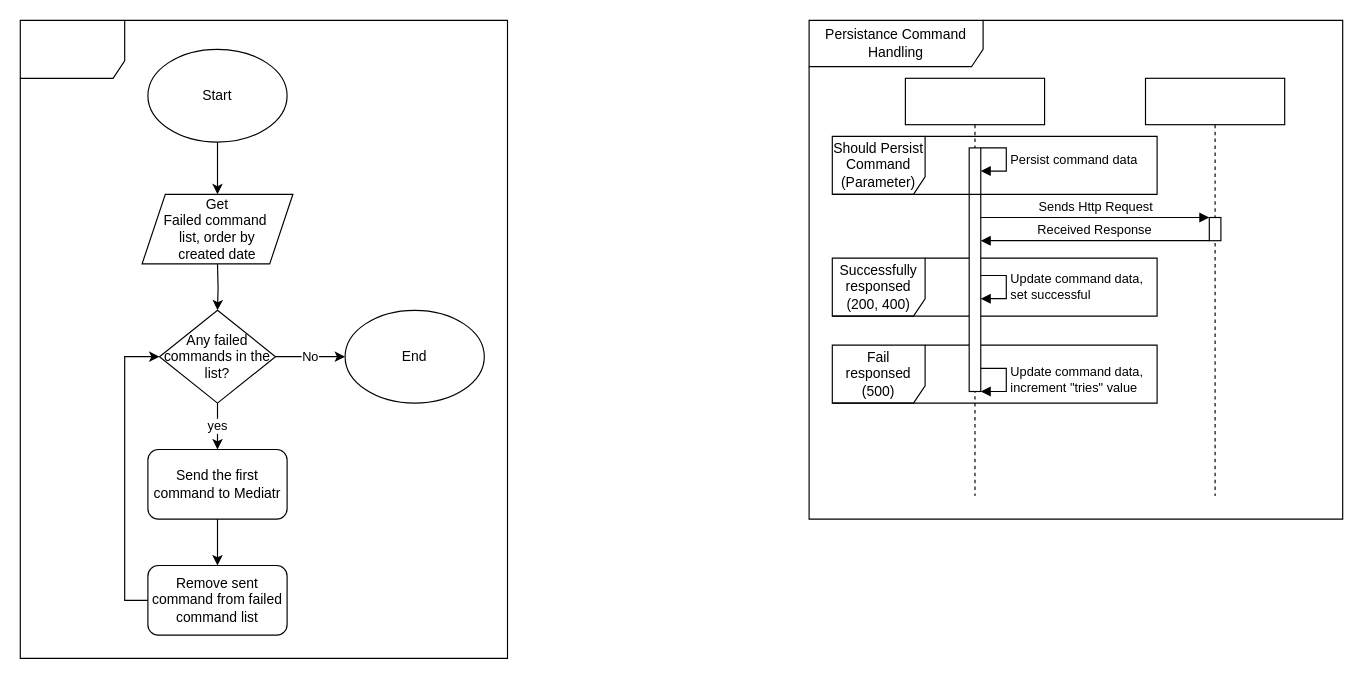
Image size: 1363x679. Some labels were removed from this diagram. Each missing label, with the box of its shape:
Gitea Instance: (1144, 77, 1285, 496)
IntegrationContext: (904, 77, 1045, 496)
Persistance Command Handling Job: (19, 19, 507, 658)
